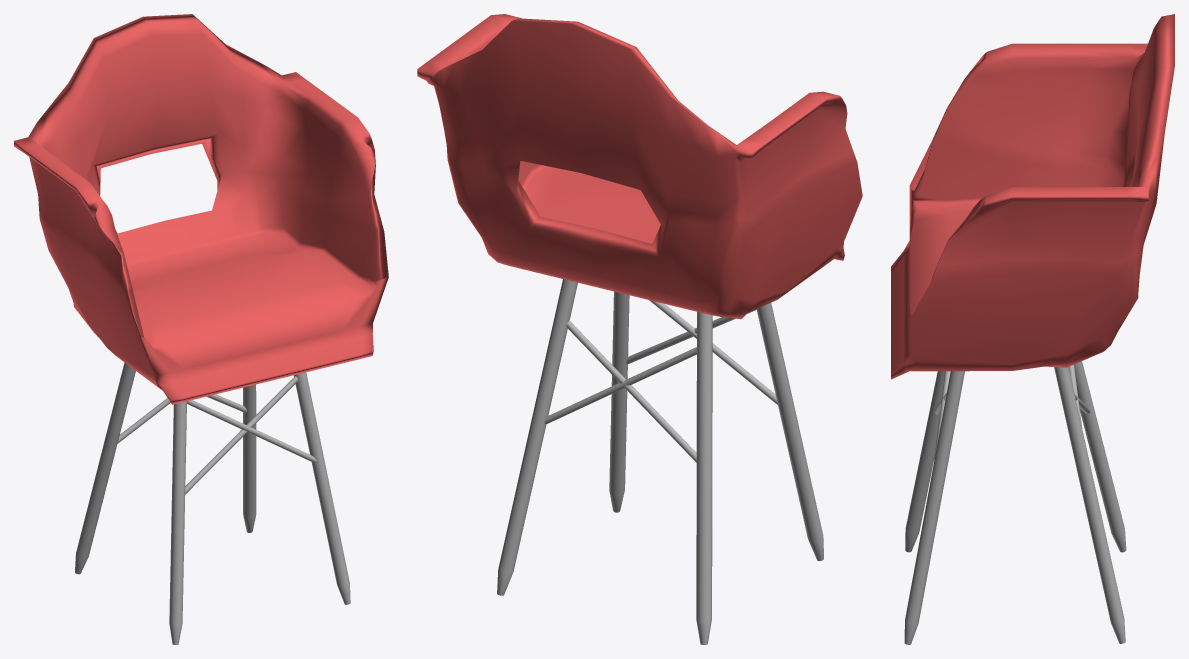
The model's file is chair_red.fbx.
3 renders of one model, left to right at view 1: azimuth 30°, elevation 25°; view 2: azimuth 150°, elevation 25°; view 3: azimuth 270°, elevation 25°, orthographic. The views are drawn at different scales.
Visible parts, largest first — view 1: cafechair; view 2: cafechair; view 3: cafechair.
Boxes of the visible parts, x1,y1,x2,y2 form: cafechair: [14, 14, 388, 644]; cafechair: [417, 14, 862, 644]; cafechair: [891, 14, 1174, 644].
Bounding box in the file's own units: 3.66 × 6.44 × 2.91.
